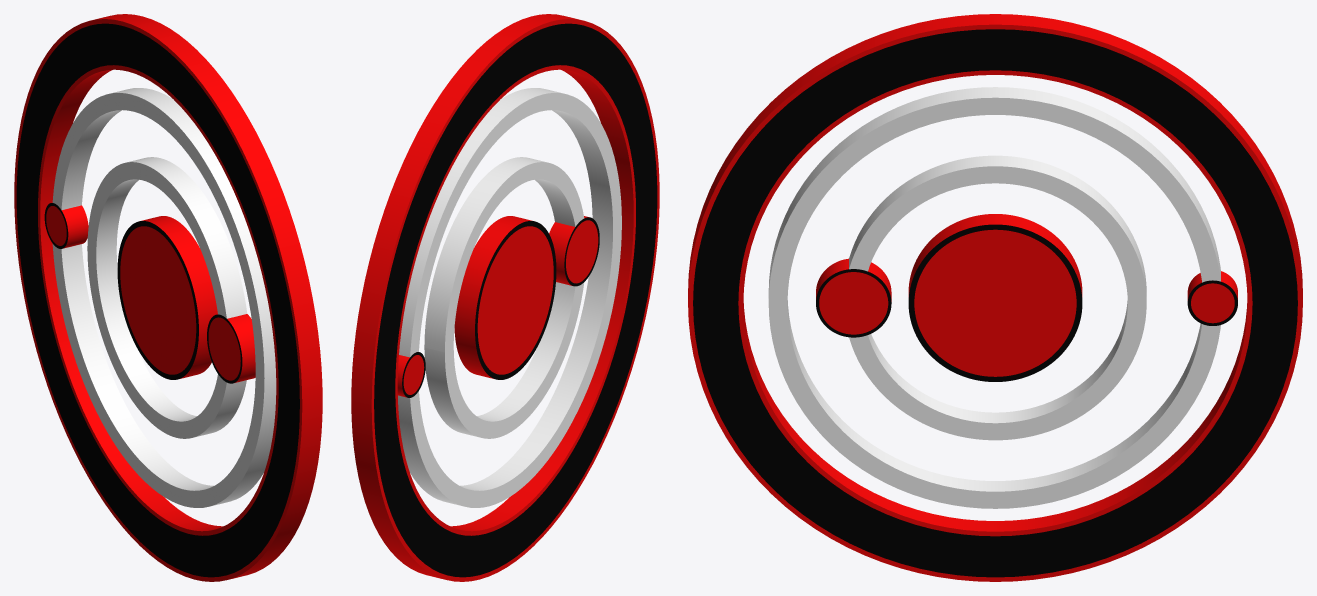
Rendered from track_collectable_expert.dae.
3 renders of one model, left to right at view 1: azimuth 30°, elevation 25°; view 2: azimuth 150°, elevation 25°; view 3: azimuth 270°, elevation 25°, orthographic. The views are drawn at different scales.
Parts seen in each view (by area): view 1: Component_1 (×13); view 2: Component_1 (×12); view 3: Component_1 (×12).
Part boxes in pixels (x1,y1,x2,y2): Component_1 (×13): [14, 14, 322, 581]; Component_1 (×12): [351, 14, 659, 581]; Component_1 (×12): [688, 14, 1302, 581].
Bounding box in the file's own units: 39.37 × 961 × 961.
